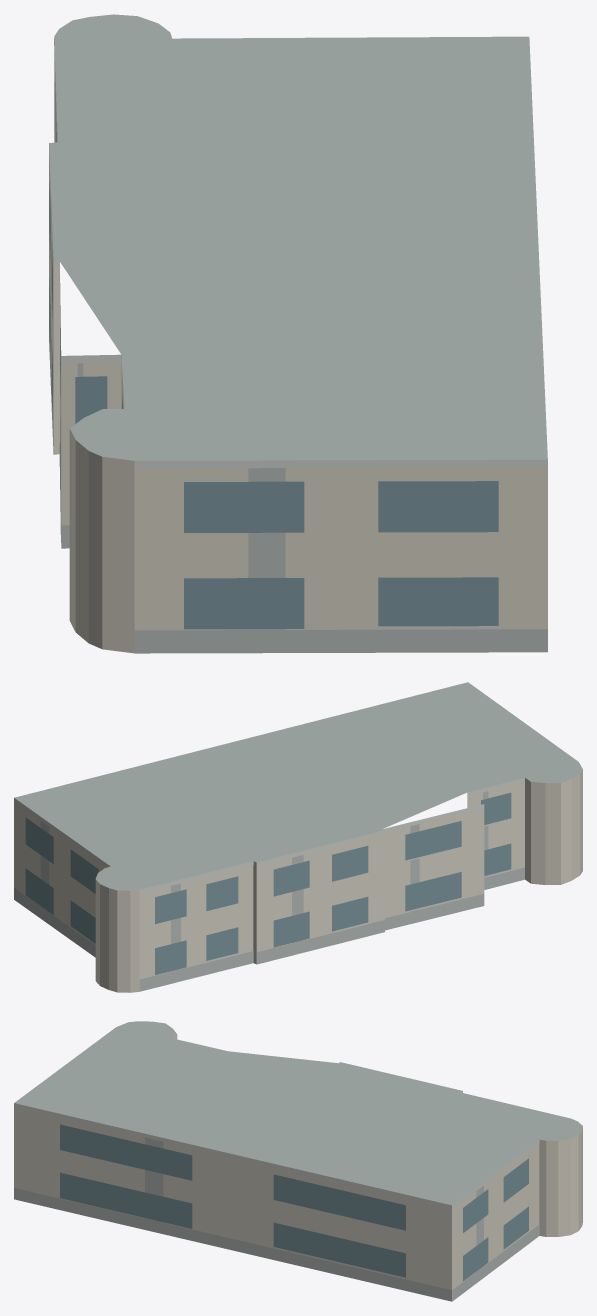
File: survey-upis-32974162.glb
The picture shows the model from 3 angles, top to bottom: view 1: azimuth 30°, elevation 25°; view 2: azimuth 150°, elevation 25°; view 3: azimuth 270°, elevation 25°; orthographic projection. The views are drawn at different scales.
Visible parts, largest first — view 1: survey-upis-32974162.tmp; view 2: survey-upis-32974162.tmp; view 3: survey-upis-32974162.tmp.
Boxes of the visible parts, x1,y1,x2,y2 form: survey-upis-32974162.tmp: (49,14,547,653); survey-upis-32974162.tmp: (14,682,582,992); survey-upis-32974162.tmp: (14,1021,582,1301).
Bounding box in the file's own units: 25.03 × 6.1 × 32.67.
